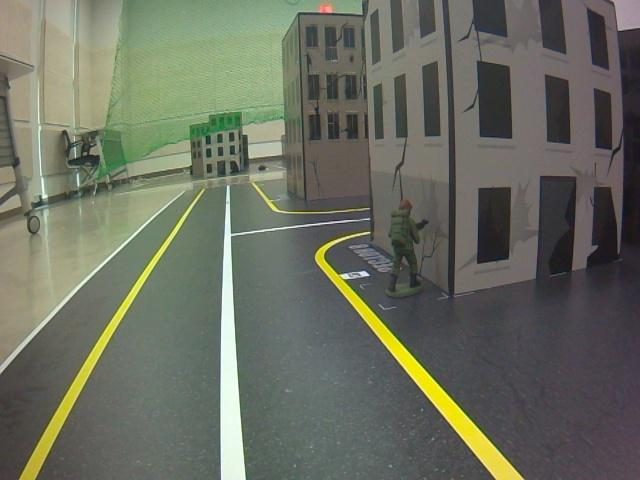Enemy: (383, 195, 439, 306)
